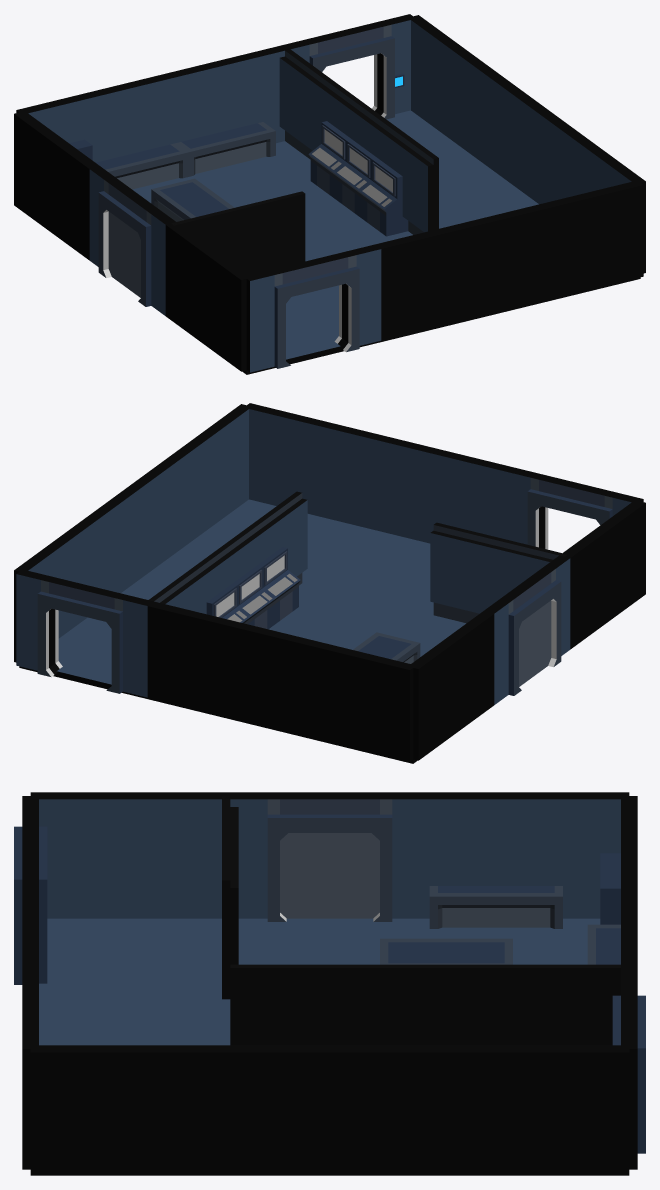
Rendered from Lab1.fbx.
3 views of the same model, one above another, from view 1: azimuth 30°, elevation 25°; view 2: azimuth 150°, elevation 25°; view 3: azimuth 270°, elevation 25° (orthographic). The views are drawn at different scales.
Visible parts, largest first — view 1: LaboratorySquareFloor, LaboratoryWall.008, LaboratoryWall.001, Doorway.001, LaboratoryWall.004, LaboratoryWall, LaboratoryWall.003, LaboratoryWall.006, LaboratoryWall.005, LaboratoryWall.002, HallwayWallStraight.001, Doorway (+11 smaller); view 2: LaboratorySquareFloor, LaboratoryWall.002, LaboratoryWall.004, LaboratoryWall.008, LaboratoryWall.001, Doorway.003, LaboratoryWall.003, HallwayWallStraight.001, LaboratoryWall, LaboratoryWall.006, LaboratoryWall.007, Doorway (+9 smaller); view 3: LaboratorySquareFloor, LaboratoryWall.005, LaboratoryWall.007, LaboratoryWall.006, LaboratoryWall, LaboratoryWall.003, HallwayWallStraight.003, Doorway, HallwayWallStraight.002, DoorClosed.001, LabTableWall.002, Doorway.003 (+9 smaller).
Boxes of the visible parts, box(x1,y1,x2,y2) form: LaboratorySquareFloor: box(132, 110, 640, 374); LaboratoryWall.008: box(506, 180, 643, 308); LaboratoryWall.001: box(375, 212, 512, 340); Doorway.001: box(246, 244, 381, 372); LaboratoryWall.004: box(148, 46, 284, 148); LaboratoryWall: box(165, 223, 251, 371); LaboratoryWall.003: box(14, 112, 100, 260); LaboratoryWall.006: box(483, 70, 569, 204); LaboratoryWall.005: box(411, 15, 493, 163); LaboratoryWall.002: box(16, 78, 153, 162); HallwayWallStraight.001: box(171, 191, 305, 274); Doorway: box(89, 166, 175, 315); LaboratorySquareFloor: box(19, 499, 465, 763); LaboratoryWall.002: box(278, 633, 415, 761); LaboratoryWall.004: box(147, 601, 284, 729); LaboratoryWall.008: box(244, 403, 380, 529); LaboratoryWall.001: box(375, 435, 511, 543); Doorway.003: box(16, 569, 153, 697); LaboratoryWall.003: box(409, 611, 494, 760); HallwayWallStraight.001: box(430, 522, 566, 623); LaboratoryWall: box(562, 500, 645, 649); LaboratoryWall.006: box(90, 459, 176, 593); LaboratoryWall.007: box(166, 404, 251, 552); Doorway: box(484, 555, 570, 704); LaboratorySquareFloor: box(30, 918, 629, 1175); LaboratoryWall.005: box(429, 1045, 629, 1172); LaboratoryWall.007: box(30, 1045, 230, 1172); LaboratoryWall.006: box(230, 1045, 429, 1172); LaboratoryWall: box(30, 792, 230, 918); LaboratoryWall.003: box(429, 792, 629, 918); HallwayWallStraight.003: box(230, 964, 429, 1045); Doorway: box(230, 792, 429, 921); HallwayWallStraight.002: box(429, 964, 620, 1045); DoorClosed.001: box(280, 833, 379, 918); LabTableWall.002: box(429, 886, 562, 928); Doorway.003: box(612, 964, 645, 1169).
Size of the model in its own units: 1875 by 420 by 1900.
